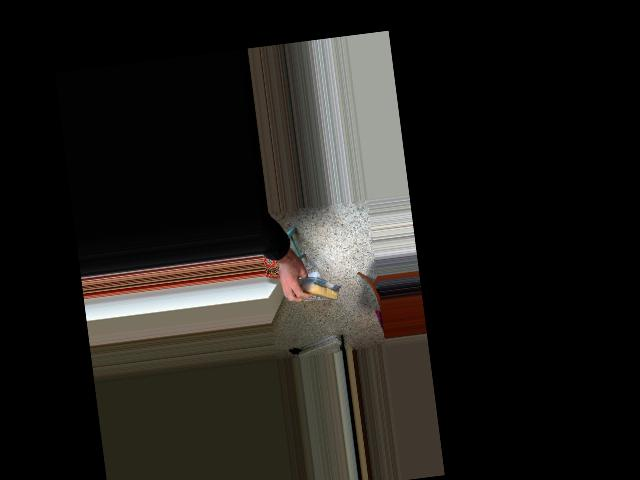cheese: (280, 270, 345, 305)
